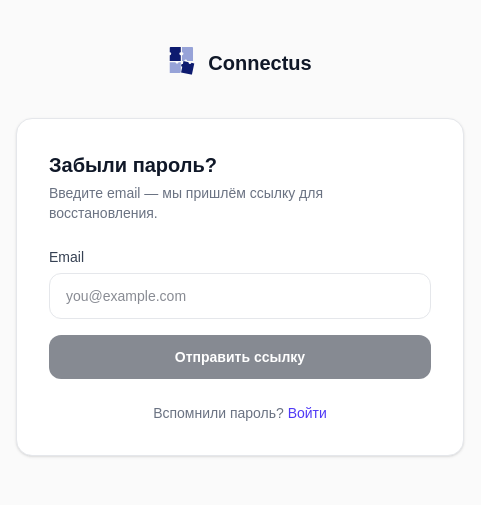
Test: ForgotPasswordPage › shows a formatted cooldown message on CooldownError and disables the button
The image size is (481, 505).
Type "student@example.com" into the field with placeholder "you@example.com".
click(240, 296); type("student@example.com")  # box [49,272,431,318]
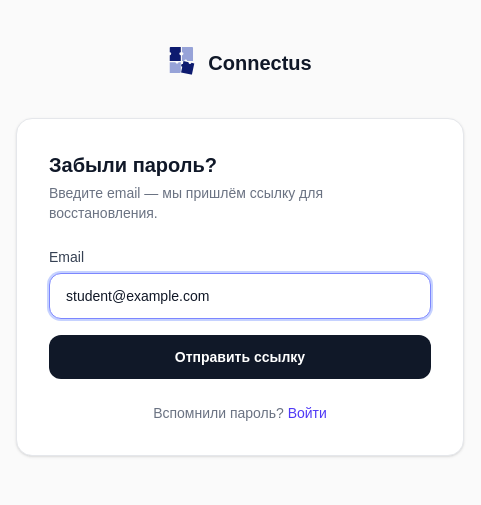
Click the button "Отправить ссылку".
click(240, 356)  # box [49,334,431,378]
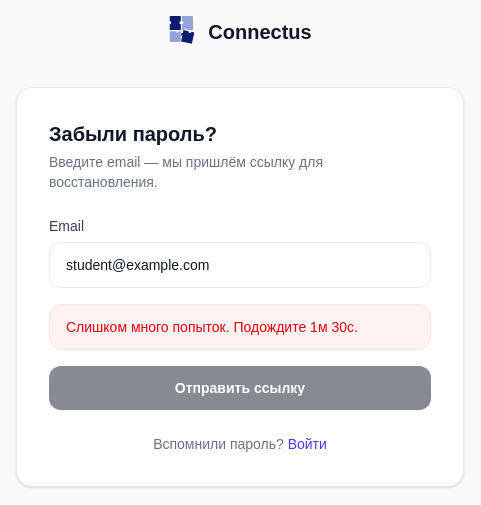
Check: the text "Слишком много попыток. Подождите 1м 30с." is shown, box [49,304,431,350]
Check: the button "Отправить ссылку" is disabled, box [49,366,431,410]
